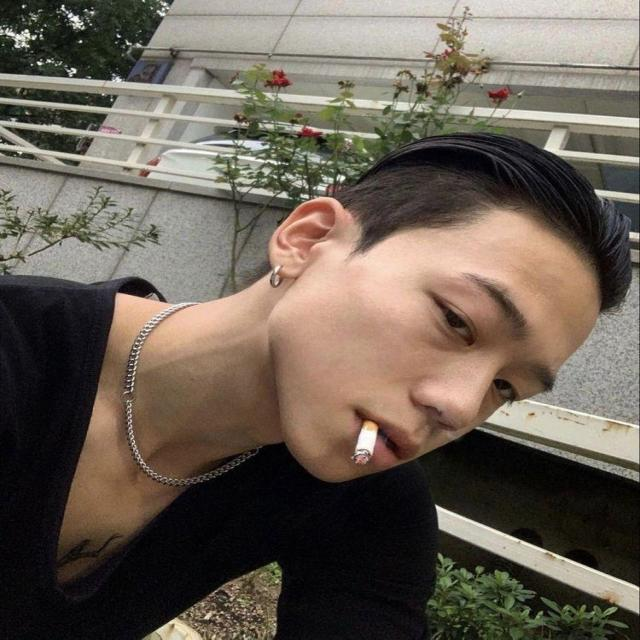cigarette: (350, 401, 404, 474)
